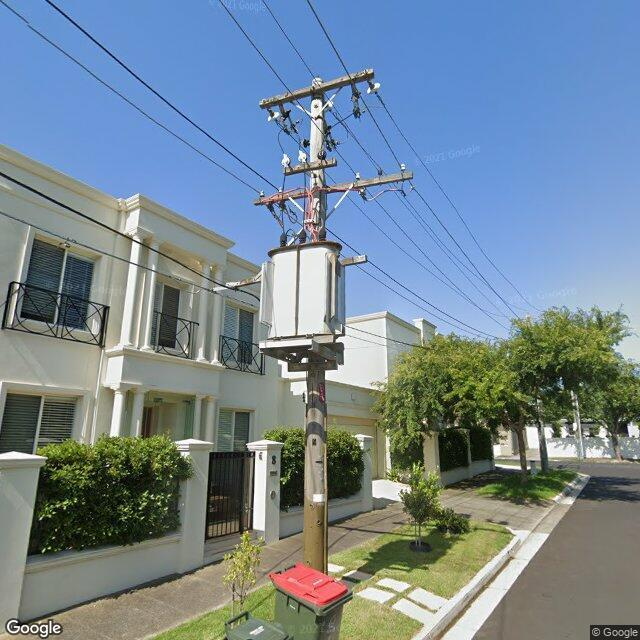crossarm: (253, 172, 413, 206), (226, 255, 367, 288), (259, 69, 374, 109), (283, 158, 337, 176)
timber-pole: (302, 76, 327, 575), (571, 391, 584, 458)
transformer: (258, 242, 345, 340)
